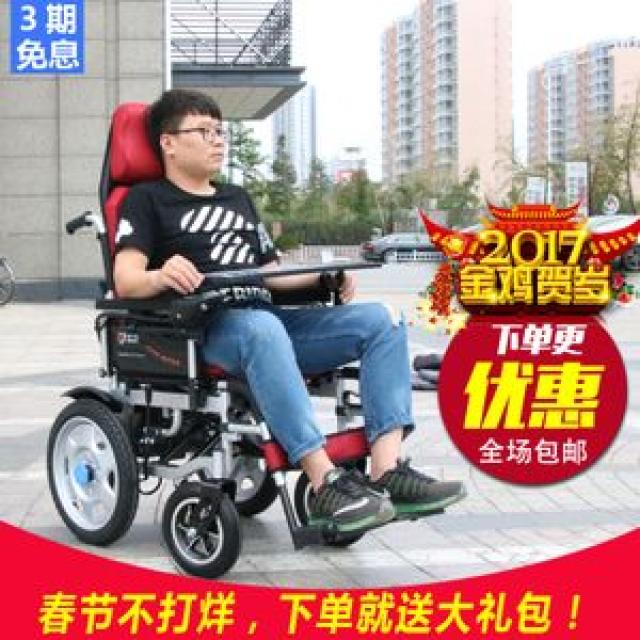wheelchairs: (34, 200, 453, 582)
